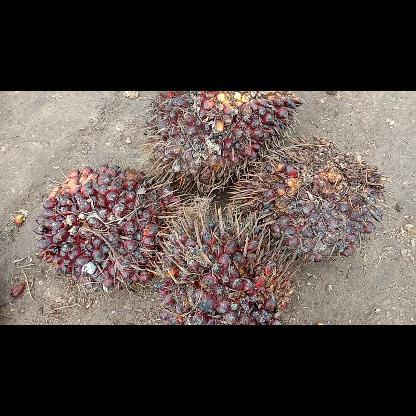TBS masak: (229, 135, 391, 261), (35, 165, 184, 293), (156, 206, 296, 324), (142, 90, 302, 192)
